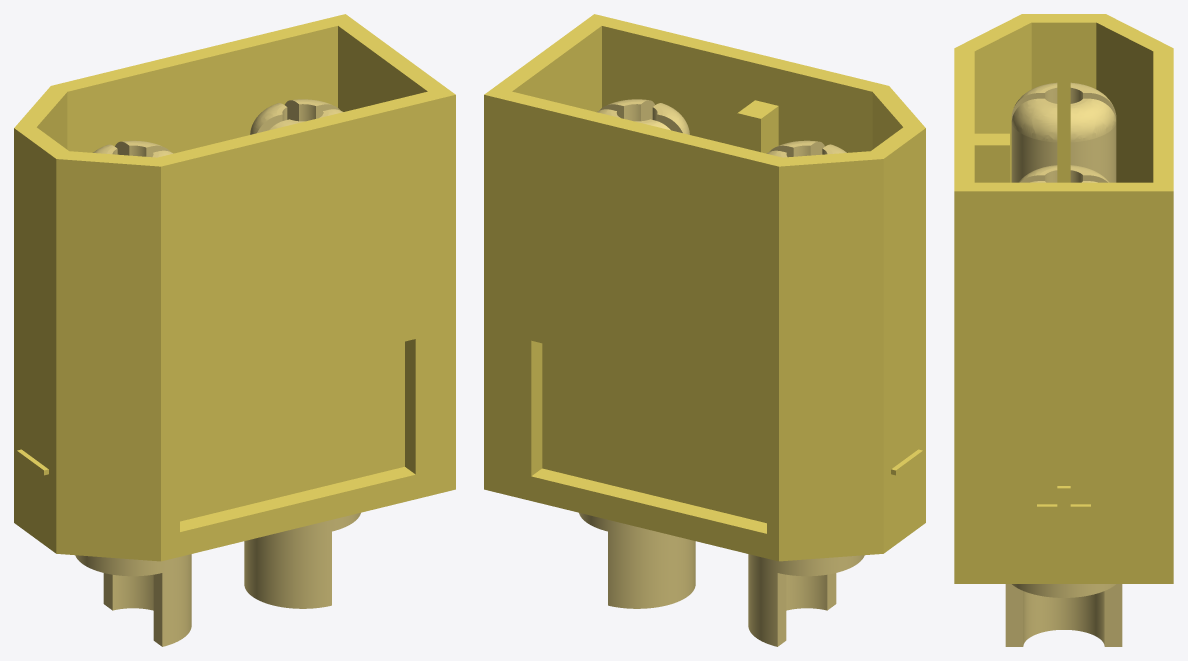
The model's file is web.glb.
3 views of the same model, side by side, from view 1: azimuth 30°, elevation 25°; view 2: azimuth 150°, elevation 25°; view 3: azimuth 270°, elevation 25° (orthographic).
Parts seen in each view (by area): view 1: XT60 male v002, XT60 male v9, XT60 male v001; view 2: XT60 male v002, XT60 male v9, XT60 male v001; view 3: XT60 male v002, XT60 male v001, XT60 male v9.
Part boxes in pixels (x1=…): XT60 male v002: x1=14, y1=14, x2=455, y2=561; XT60 male v9: x1=244, y1=99, x2=360, y2=608; XT60 male v001: x1=75, y1=140, x2=191, y2=646; XT60 male v002: x1=484, y1=14, x2=925, y2=561; XT60 male v9: x1=579, y1=99, x2=695, y2=608; XT60 male v001: x1=748, y1=140, x2=864, y2=646; XT60 male v002: x1=954, y1=14, x2=1173, y2=583; XT60 male v001: x1=1011, y1=82, x2=1116, y2=182; XT60 male v9: x1=1005, y1=165, x2=1122, y2=646.
Bounding box in the file's own units: 0.0159 × 0.0205 × 0.0081.
